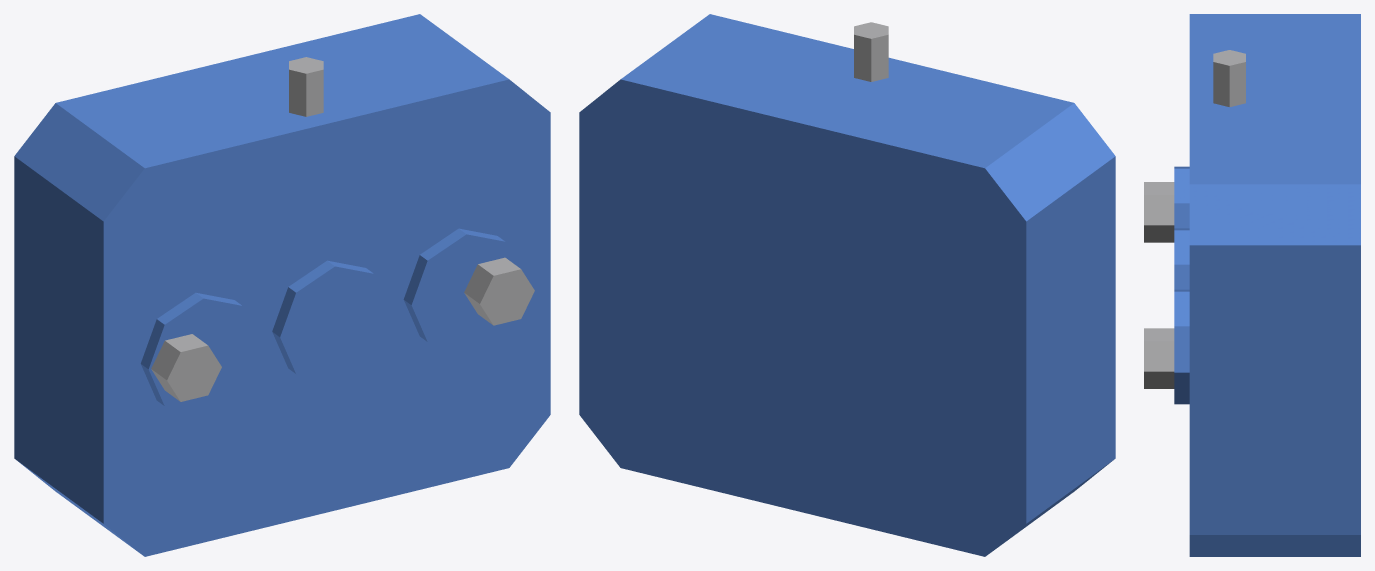
The model's file is six_piston_race_lod1.glb.
3 views of the same model, side by side, from view 1: azimuth 30°, elevation 25°; view 2: azimuth 150°, elevation 25°; view 3: azimuth 270°, elevation 25° (orthographic). The views are drawn at different scales.
Parts seen in each view (by area): view 1: six_piston_race_lod1; view 2: six_piston_race_lod1; view 3: six_piston_race_lod1.
Part boxes in pixels (x1,y1,x2,y2): six_piston_race_lod1: (14,14,550,556); six_piston_race_lod1: (579,14,1115,556); six_piston_race_lod1: (1144,14,1360,556).
Bounding box in the file's own units: 0.13 × 0.12 × 0.057.
